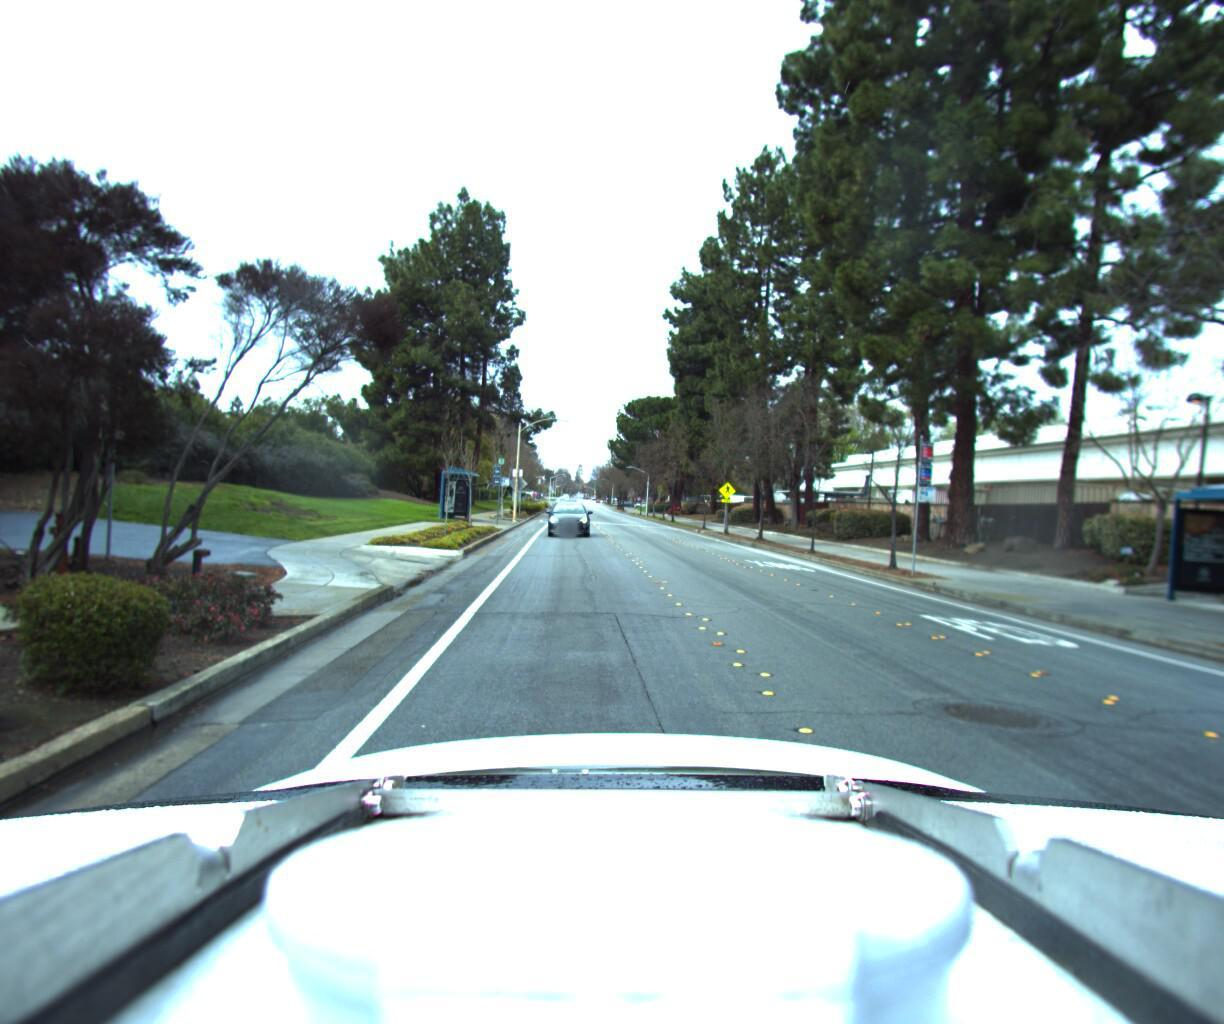car: (543, 493, 591, 536)
